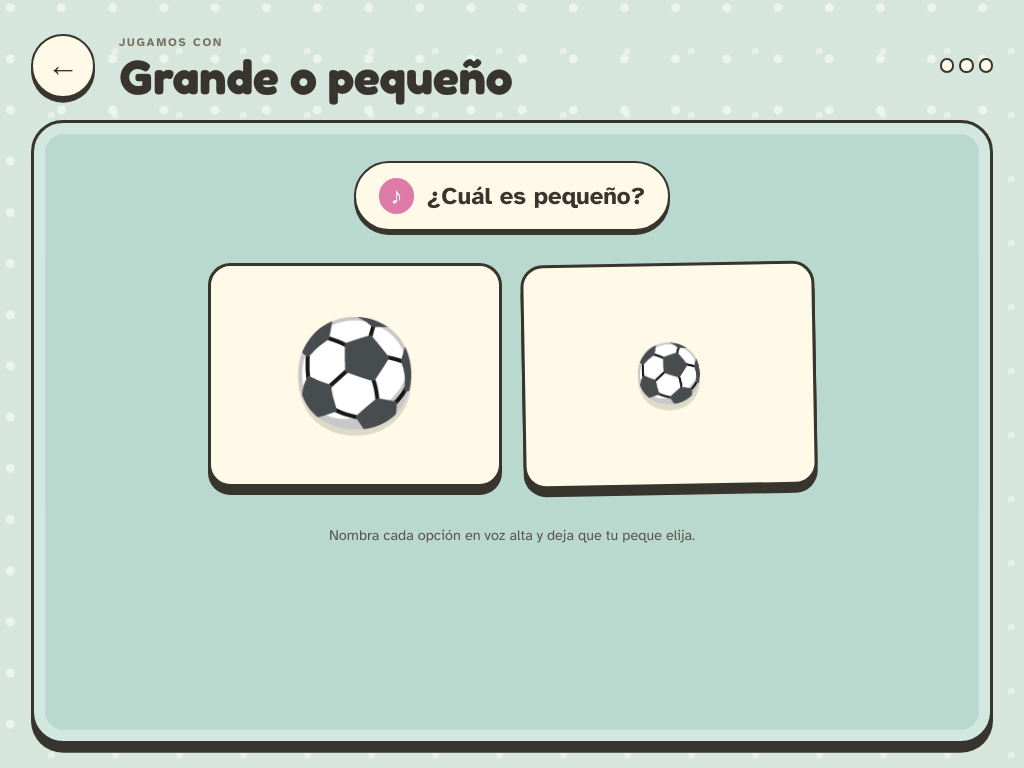
Test: ChoiceGame › alterna pequeño y grande y cambia de objeto tras acertar
The width and height of the screenshot is (1024, 768).
Expected: the button "♪ ¿Cuál es pequeño?" is shown, 354,161 -> 670,231
Click the button named "pelota pequeña".
click(669, 375)  # box 520,261 -> 818,490
Wait 650 ms
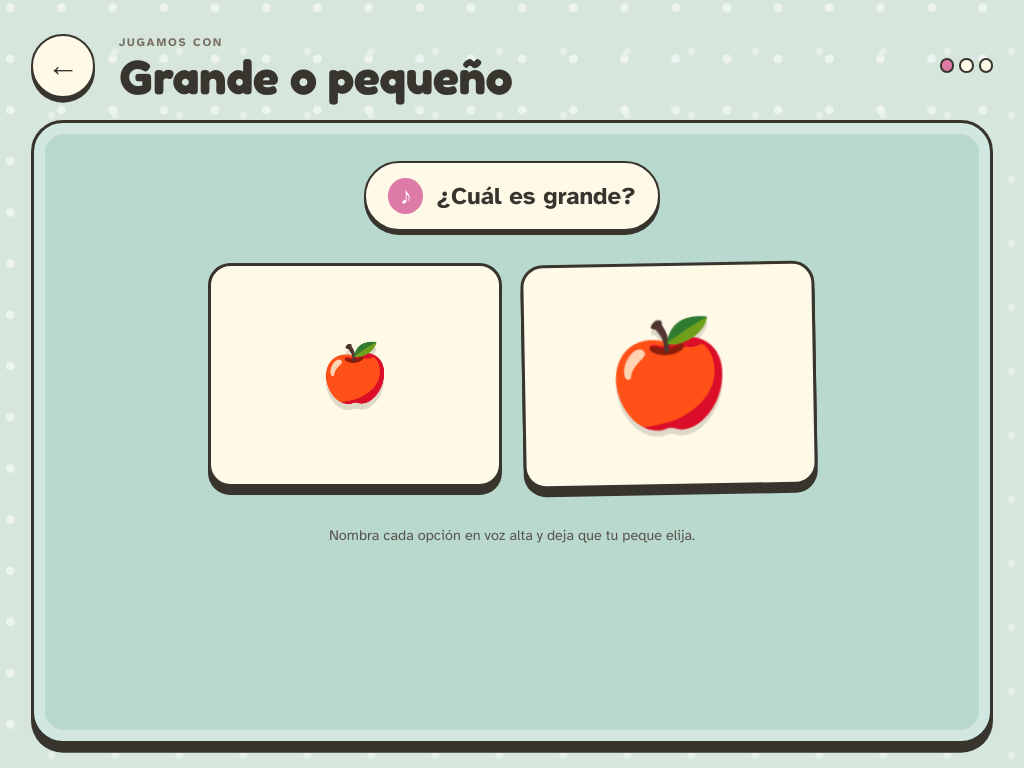
Now the button "♪ ¿Cuál es grande?" is shown, box 364,161 -> 660,231
